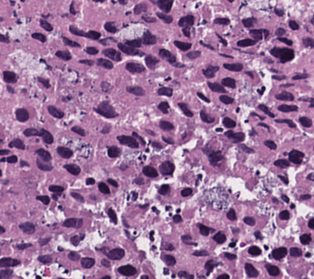nucleus: (94, 101, 117, 117), (117, 43, 143, 55), (117, 135, 138, 147), (159, 48, 175, 63), (103, 48, 121, 61), (225, 130, 244, 142), (177, 102, 192, 116), (249, 29, 268, 40), (125, 62, 144, 73), (47, 105, 63, 118), (106, 248, 124, 259), (209, 151, 223, 165), (141, 31, 156, 44), (258, 104, 273, 117), (35, 148, 50, 161), (159, 161, 174, 174), (202, 65, 218, 77), (15, 108, 28, 122), (40, 129, 53, 143), (57, 146, 72, 158), (118, 265, 136, 275), (36, 159, 52, 170), (62, 36, 79, 46), (208, 82, 225, 92), (145, 55, 158, 68), (245, 263, 258, 276), (272, 247, 286, 259), (9, 138, 24, 149), (19, 222, 34, 233), (198, 224, 213, 235), (126, 86, 144, 95), (174, 40, 190, 50), (55, 50, 71, 60), (64, 164, 80, 174), (200, 111, 214, 122), (143, 166, 157, 177), (205, 260, 216, 274), (125, 38, 142, 47), (237, 38, 256, 46), (223, 63, 242, 71), (0, 258, 19, 266), (97, 58, 112, 68), (3, 71, 16, 82), (162, 254, 175, 265), (81, 257, 94, 268), (266, 264, 279, 275), (31, 32, 45, 42), (159, 120, 173, 130), (23, 128, 40, 136), (107, 208, 116, 223), (158, 101, 169, 113), (223, 117, 235, 128), (108, 146, 120, 157), (213, 232, 225, 243), (222, 77, 235, 87), (86, 30, 100, 39), (158, 87, 172, 96), (239, 144, 253, 153), (63, 218, 77, 227), (181, 235, 195, 244), (133, 132, 144, 143), (98, 182, 109, 193), (216, 33, 226, 45), (197, 92, 209, 102), (274, 159, 289, 167), (71, 126, 84, 135), (36, 195, 49, 204), (186, 50, 200, 58), (49, 185, 63, 193), (38, 77, 49, 87), (158, 184, 169, 194), (70, 235, 81, 245), (264, 140, 276, 149), (71, 192, 83, 201), (248, 246, 260, 255), (178, 271, 193, 278), (200, 41, 213, 49), (220, 95, 233, 103), (38, 255, 51, 263), (227, 209, 236, 220), (68, 251, 79, 260), (85, 46, 97, 54), (0, 269, 12, 277), (101, 81, 110, 91), (16, 243, 31, 249), (39, 237, 50, 245), (162, 242, 173, 250), (79, 59, 93, 65), (181, 188, 191, 196), (244, 217, 254, 225), (162, 136, 173, 143), (6, 155, 17, 162), (193, 250, 208, 255), (0, 34, 9, 42), (101, 259, 110, 267), (152, 141, 162, 148), (224, 253, 235, 259), (173, 214, 181, 222), (108, 179, 117, 186), (101, 126, 109, 133), (134, 178, 143, 184), (254, 231, 261, 238), (273, 75, 285, 79), (86, 178, 94, 184), (259, 123, 268, 128), (0, 149, 9, 154), (217, 274, 228, 278), (20, 160, 28, 165), (7, 86, 13, 92), (221, 54, 232, 57), (146, 130, 154, 134), (132, 192, 136, 200), (246, 72, 252, 77), (152, 207, 158, 212), (150, 231, 153, 240), (120, 165, 126, 169), (0, 226, 4, 232), (229, 242, 235, 246), (163, 268, 167, 274), (102, 275, 110, 278), (141, 275, 148, 278), (52, 194, 56, 199), (174, 64, 183, 66), (1, 158, 6, 161), (217, 128, 221, 131)
